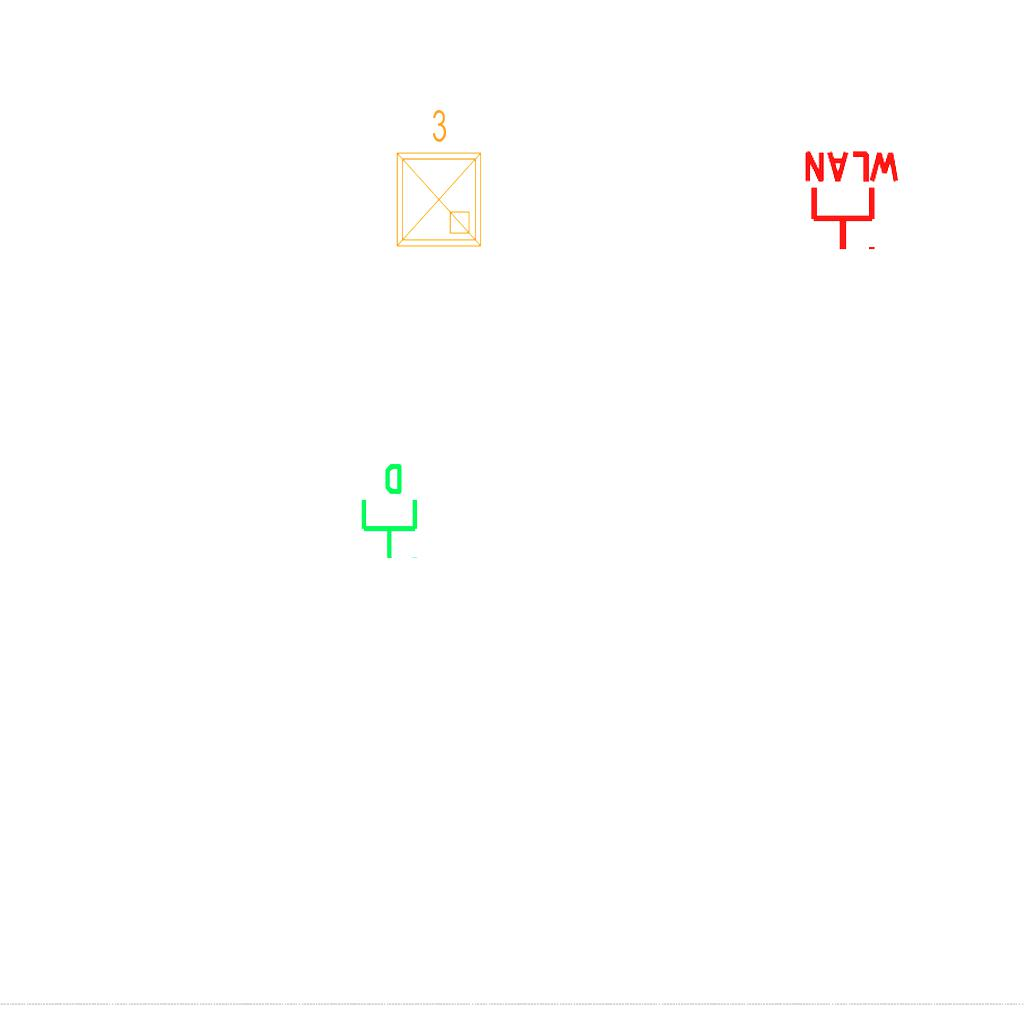Datenanschluss_einfach: (353, 461, 422, 561)
Einbaudownlights_LED_Konferenzraeume: (385, 104, 489, 254)
WLAN: (800, 149, 904, 254)
